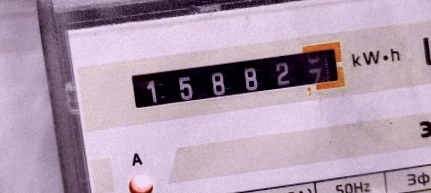1: (142, 76, 160, 105)
2: (272, 59, 292, 88)
5: (174, 72, 195, 101)
7: (305, 65, 323, 83)
8: (207, 69, 226, 98), (241, 64, 259, 93)
screen: (115, 32, 356, 122)
